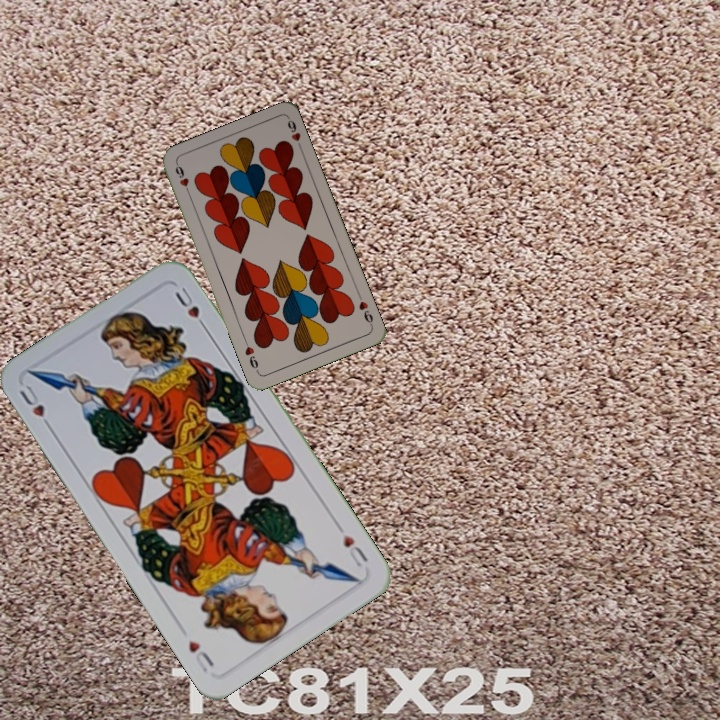H9: (354, 290, 376, 329), (171, 160, 193, 199)
HU: (15, 381, 55, 434), (333, 520, 371, 570)
